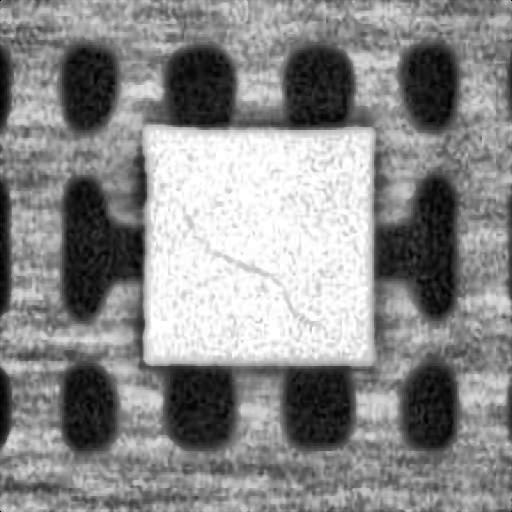DIE_CRACK: (179, 199, 322, 326)
